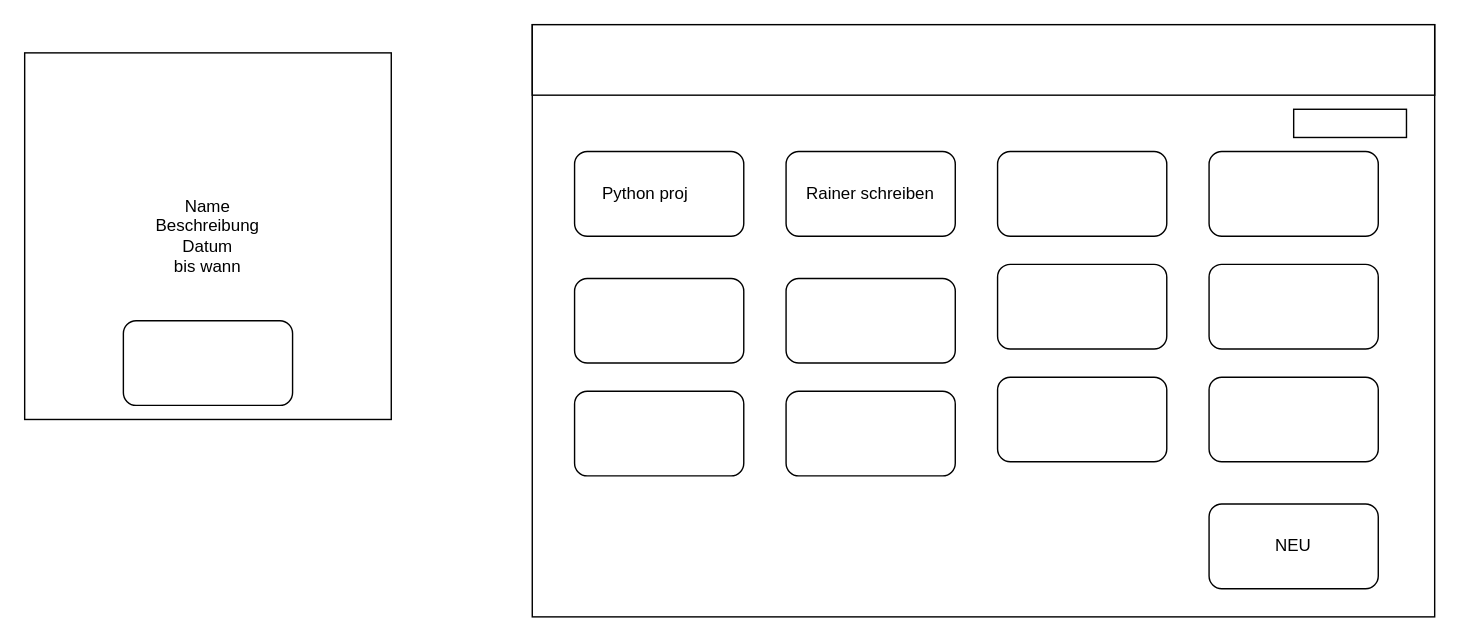
This 1459x642 diagram has some shape labels left out. Each missing label, with the centre of its shape:
Arbeit Hobby Sport: (x=983, y=59)
Lschen: (x=207, y=362)
